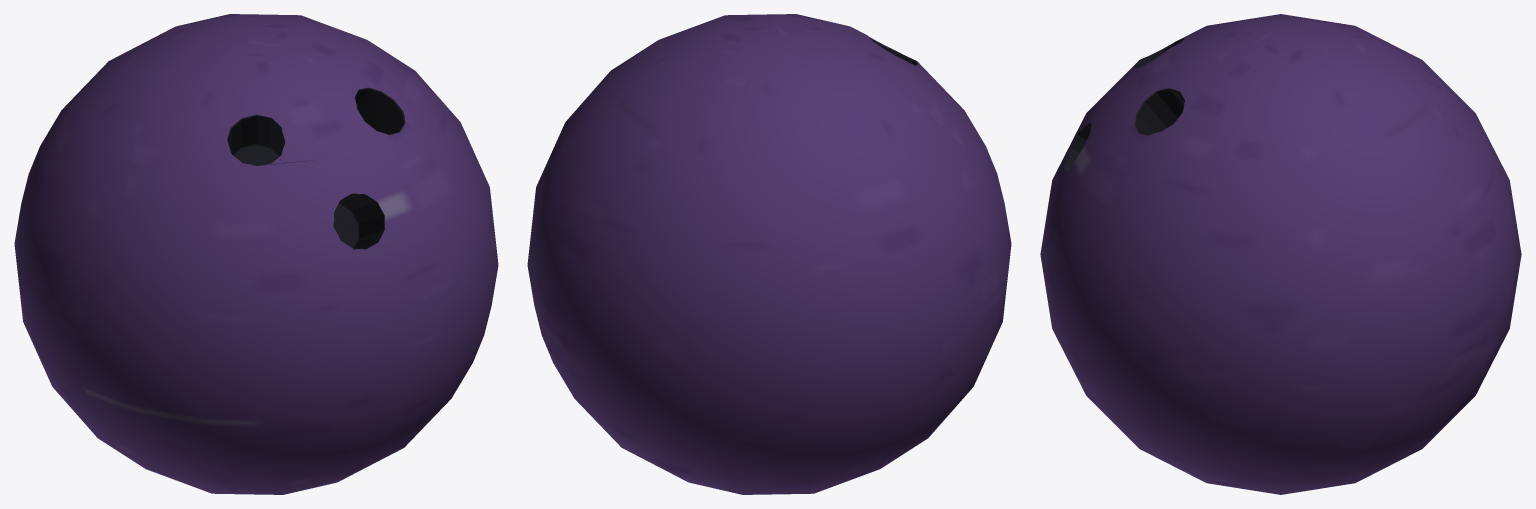
File: bowling_ball_purple.glb
3 views of the same model, side by side, from view 1: azimuth 30°, elevation 25°; view 2: azimuth 150°, elevation 25°; view 3: azimuth 270°, elevation 25° (orthographic).
Parts seen in each view (by area): view 1: arcade_bowling_ball_purple; view 2: arcade_bowling_ball_purple; view 3: arcade_bowling_ball_purple.
Boxes of the visible parts, box(x1,y1,x2,y2) form: arcade_bowling_ball_purple: box(14, 14, 498, 494); arcade_bowling_ball_purple: box(527, 14, 1011, 494); arcade_bowling_ball_purple: box(1040, 14, 1521, 494).
Bounding box in the file's own units: 0.216 × 0.216 × 0.216.
Materials: 1 (1 with a texture image).
